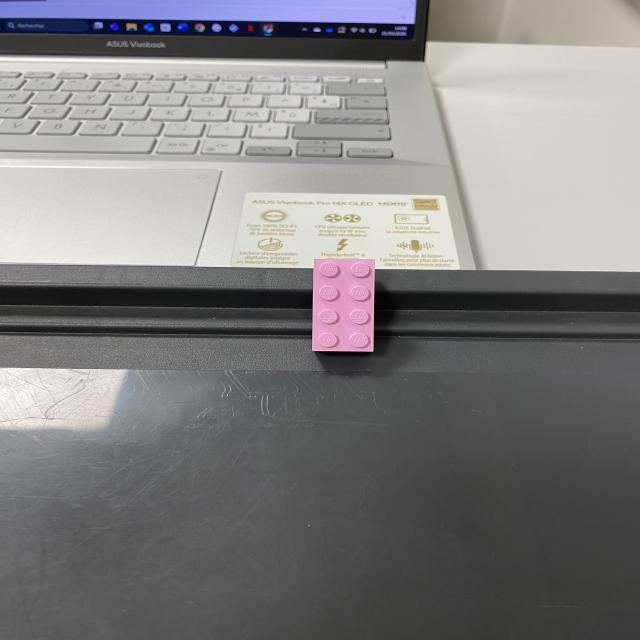C4x2x1: (312, 257, 379, 351)
